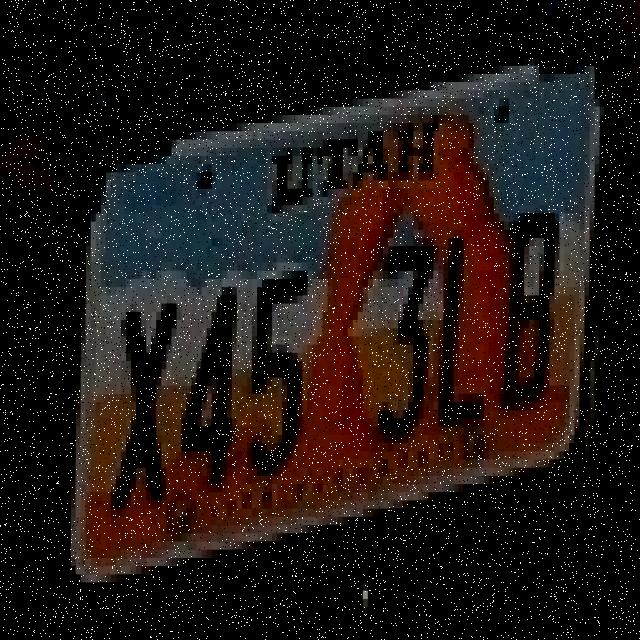licenseplate: (35, 9, 618, 598)
